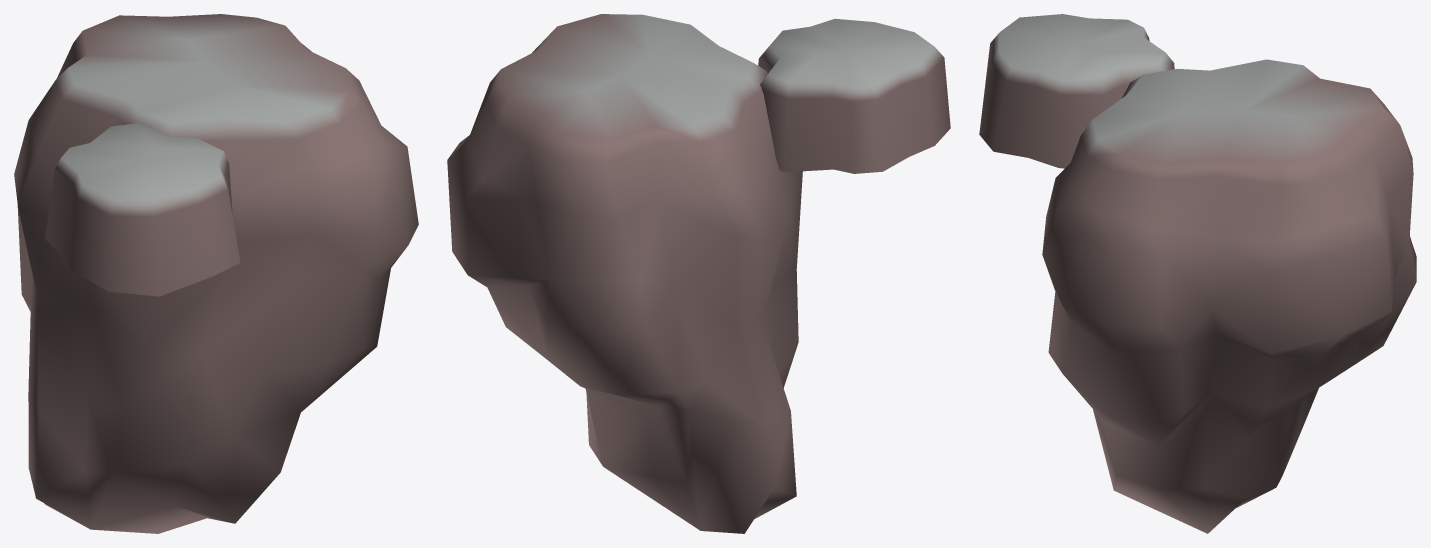
3 views of the same model, side by side, from view 1: azimuth 30°, elevation 25°; view 2: azimuth 150°, elevation 25°; view 3: azimuth 270°, elevation 25° (orthographic). The views are drawn at different scales.
Parts seen in each view (by area): view 1: G:\FFXIV-MapTools\exports\u5f1\bg\ex4\04_uvs_u5\fld\u5f1\bgp (×2); view 2: G:\FFXIV-MapTools\exports\u5f1\bg\ex4\04_uvs_u5\fld\u5f1\bgp (×2); view 3: G:\FFXIV-MapTools\exports\u5f1\bg\ex4\04_uvs_u5\fld\u5f1\bgp (×2).
Boxes of the visible parts, <box> form: G:\FFXIV-MapTools\exports\u5f1\bg\ex4\04_uvs_u5\fld\u5f1\bgp (×2): <box>14,14,418,533</box>; G:\FFXIV-MapTools\exports\u5f1\bg\ex4\04_uvs_u5\fld\u5f1\bgp (×2): <box>447,14,950,533</box>; G:\FFXIV-MapTools\exports\u5f1\bg\ex4\04_uvs_u5\fld\u5f1\bgp (×2): <box>979,14,1416,533</box>.
Size of the model in its own units: 13.53 by 15.22 by 13.82.
